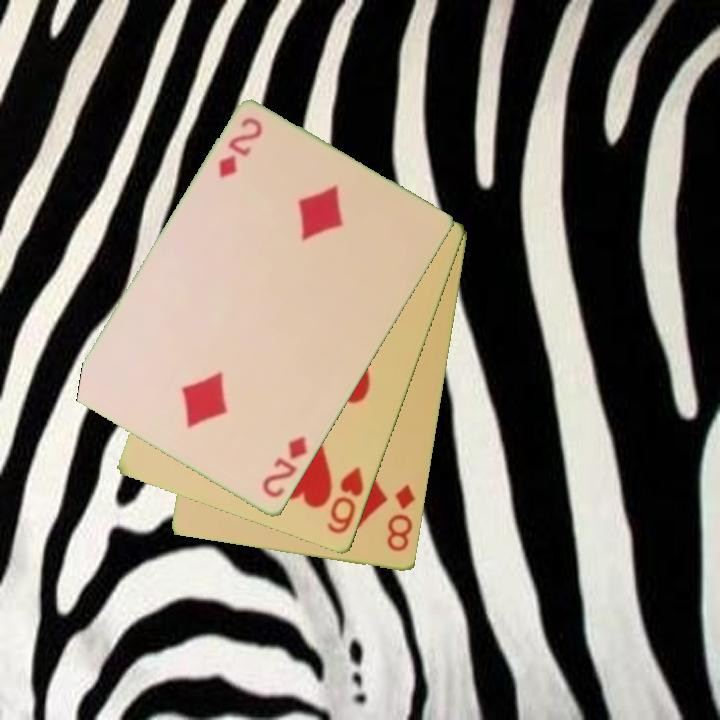2d: (258, 433, 310, 502), (215, 114, 266, 181)
6h: (323, 463, 367, 538)
8d: (384, 481, 418, 555)
